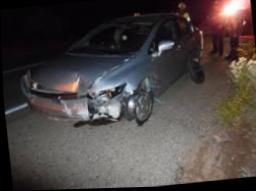Bonnet: (26, 50, 126, 95)
Bumper: (19, 85, 117, 121)
Fender: (94, 53, 147, 91)
Light: (87, 84, 125, 99), (18, 70, 36, 92)
